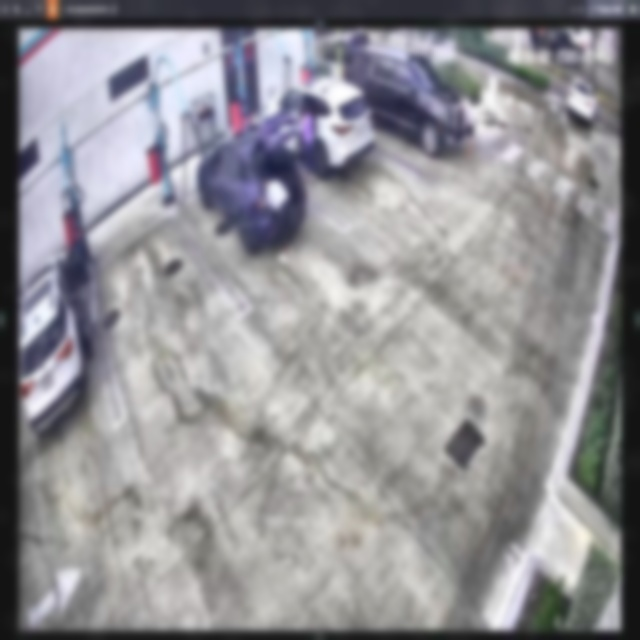Car: (195, 118, 305, 252), (261, 76, 369, 179)
